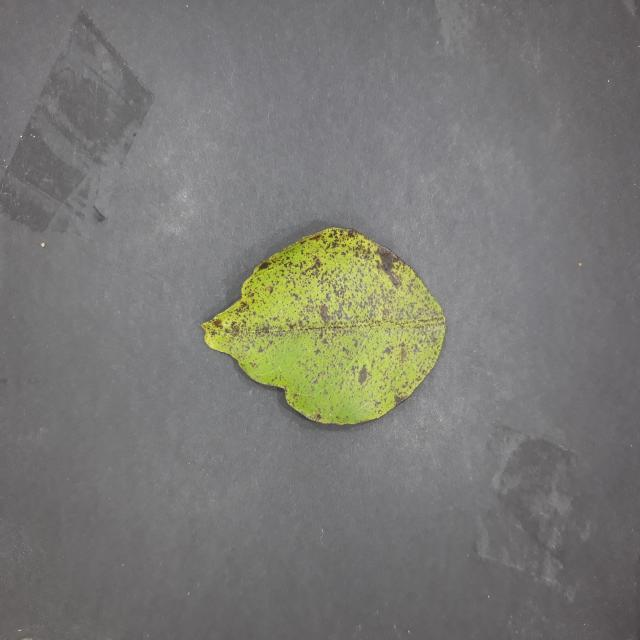greasy_spot: (202, 227, 446, 424)
